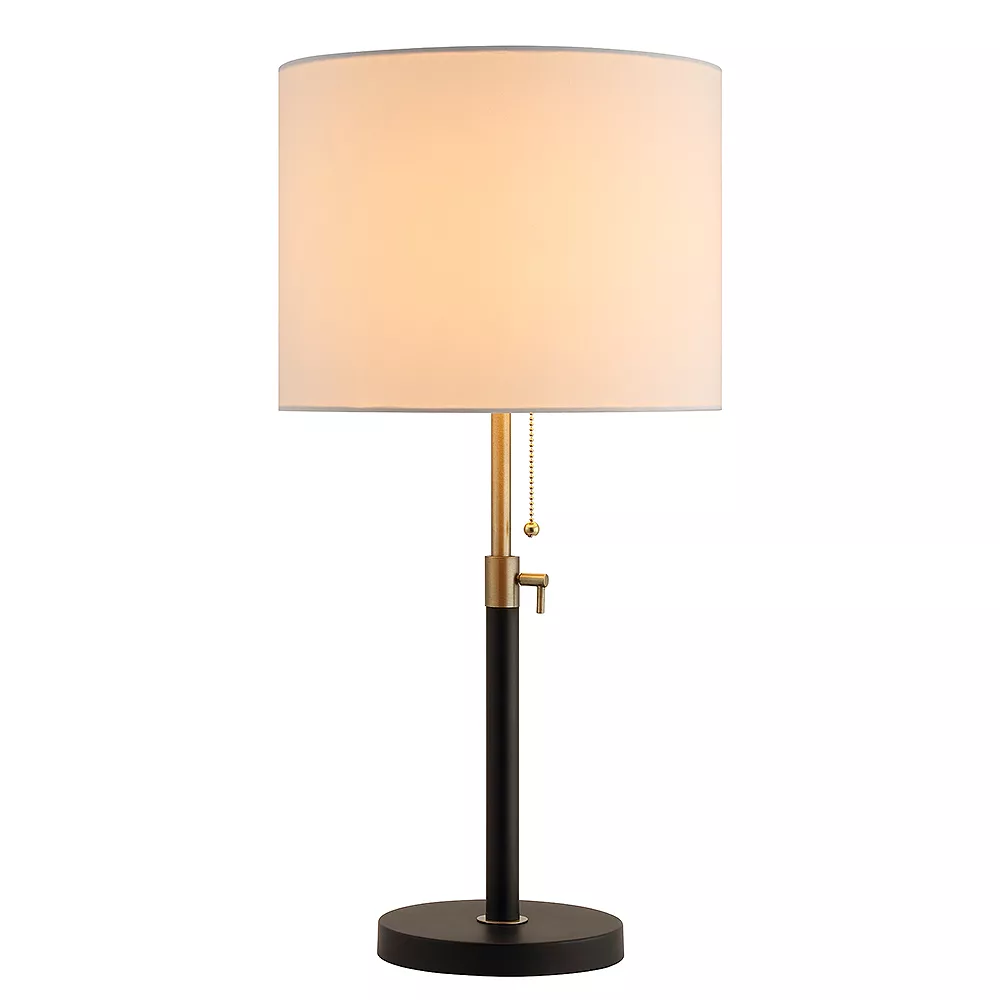lampu: (271, 48, 729, 972)
